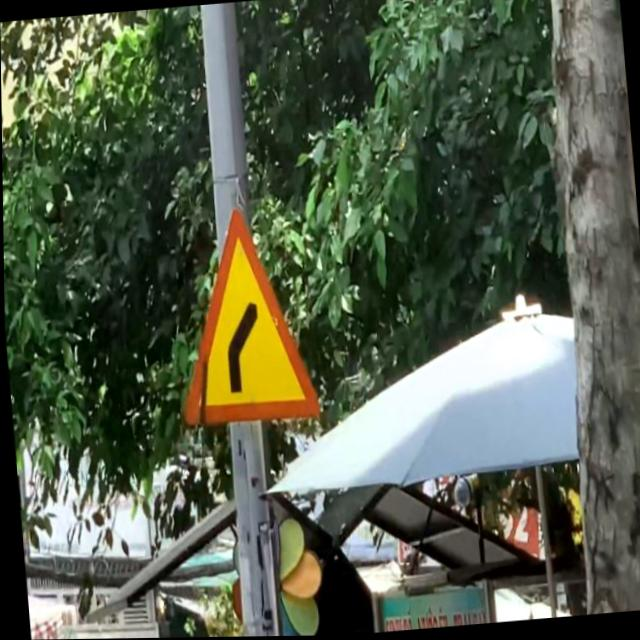cho ngoat nguy hiem vong ben phai: (162, 200, 321, 430)
